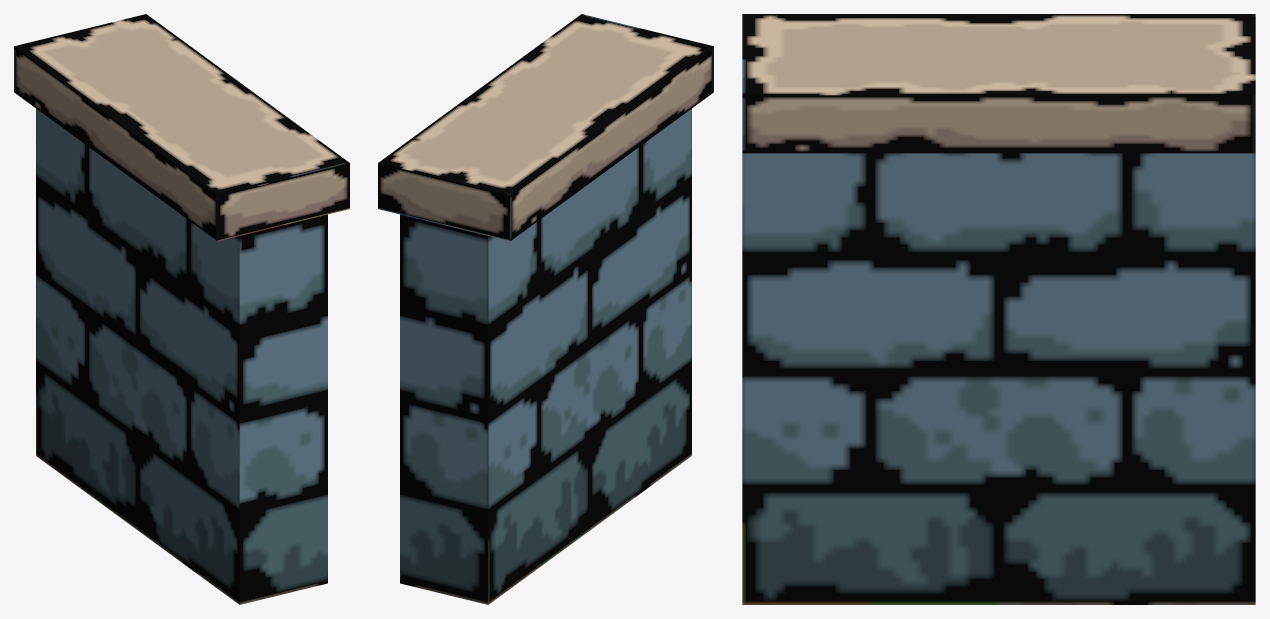
Rendered from deco_wallSmall_A.FBX.
3 renders of one model, left to right at view 1: azimuth 30°, elevation 25°; view 2: azimuth 150°, elevation 25°; view 3: azimuth 270°, elevation 25°, orthographic. The views are drawn at different scales.
Visible parts, largest first — view 1: deco_wallSmall_A; view 2: deco_wallSmall_A; view 3: deco_wallSmall_A.
Part boxes in pixels (x1,y1,x2,y2): deco_wallSmall_A: (14, 14, 349, 604); deco_wallSmall_A: (378, 14, 713, 604); deco_wallSmall_A: (742, 14, 1255, 604).
Size of the model in its own units: 0.75 by 2.25 by 2.
Materials: 1 (1 with a texture image).
